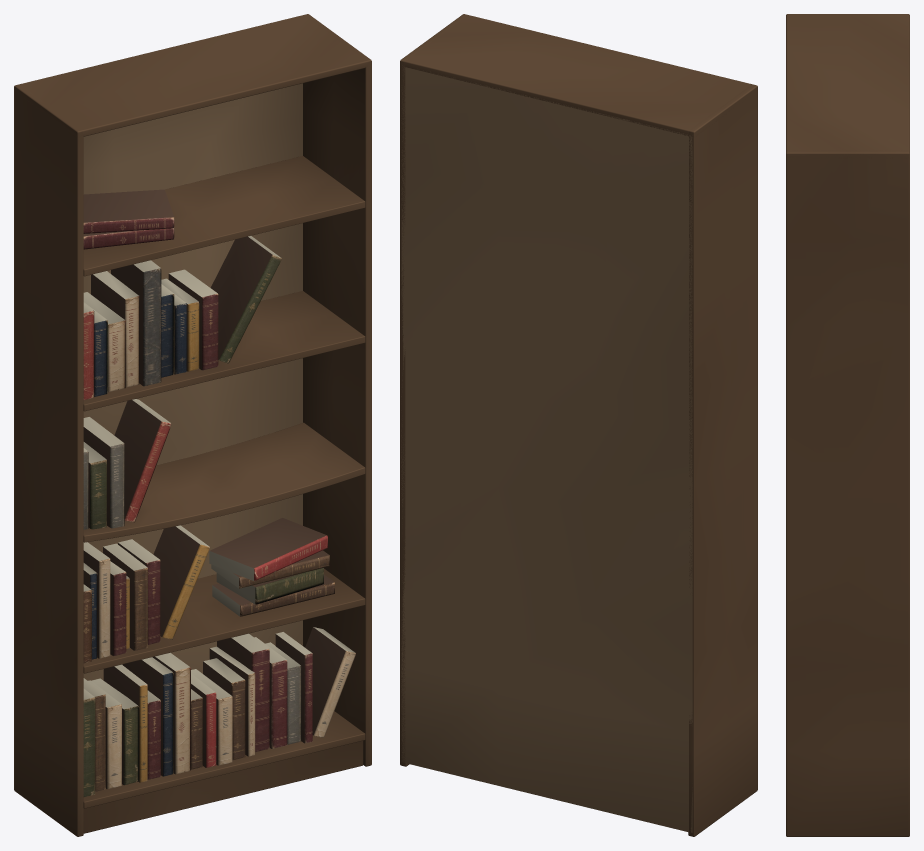
Rendered from bookshelf.glb.
3 renders of one model, left to right at view 1: azimuth 30°, elevation 25°; view 2: azimuth 150°, elevation 25°; view 3: azimuth 270°, elevation 25°, orthographic. The views are drawn at different scales.
Parts seen in each view (by area): view 1: bookshelf; view 2: bookshelf; view 3: bookshelf.
Boxes of the visible parts, box(x1,y1,x2,y2) form: bookshelf: box(14, 14, 371, 836); bookshelf: box(400, 14, 757, 836); bookshelf: box(786, 14, 909, 836).
Size of the model in its own units: 0.7998 by 1.83 by 0.2998.
Materials: 5 (1 with a texture image).
